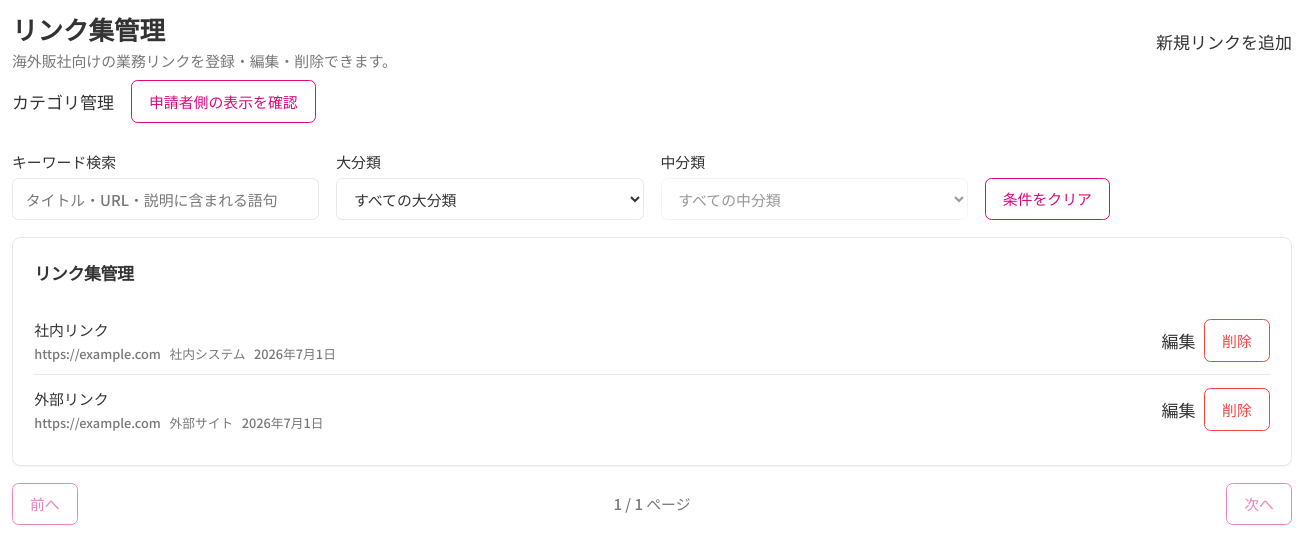
LinkManagementList › カテゴリで絞り込める
Select "社内システム" in the dropdown labelled "大分類" at (490, 199), box left=336, top=178, right=644, bottom=220
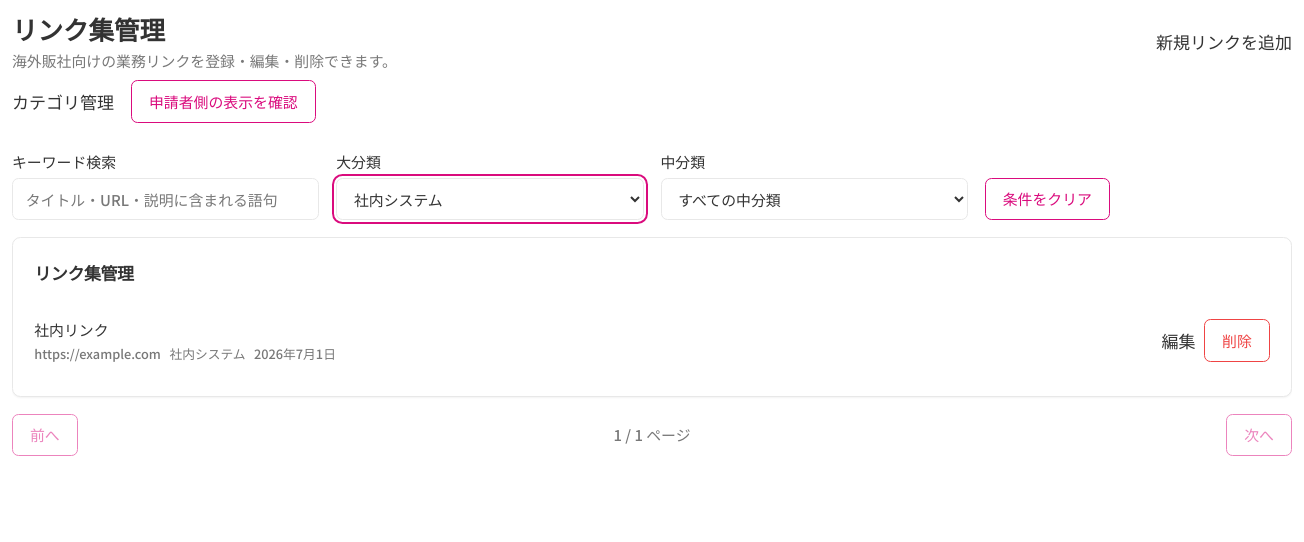
Expected: the text "社内リンク" is shown, left=34, top=319, right=109, bottom=340
Now the text "外部リンク" is gone
